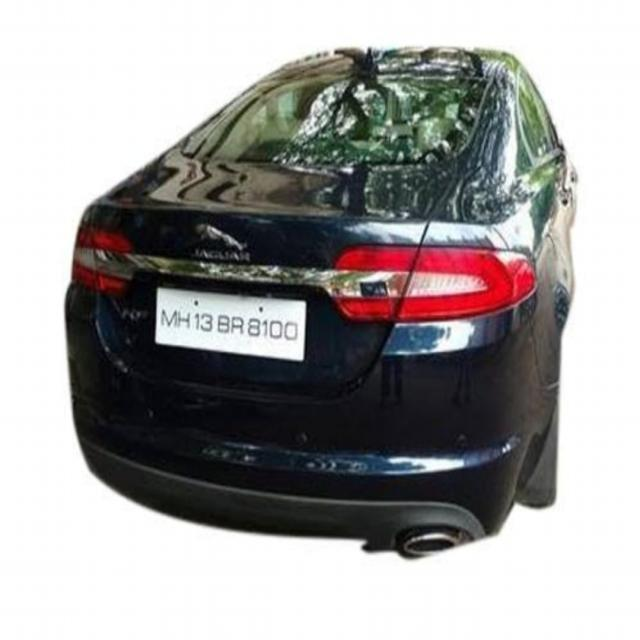Number-Plate: (154, 291, 303, 349)
